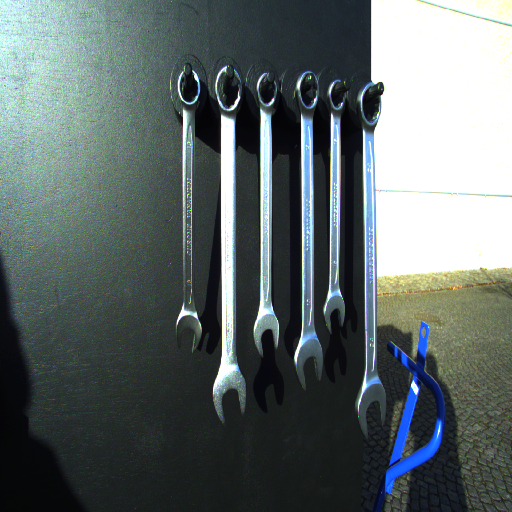bottom: (352, 380, 390, 442), (211, 370, 251, 426), (292, 338, 327, 393), (173, 310, 207, 354), (251, 313, 285, 357), (322, 295, 351, 334)
top: (212, 64, 243, 116), (356, 79, 385, 131), (292, 69, 321, 114), (175, 65, 204, 108), (326, 76, 351, 116), (255, 70, 279, 109)
